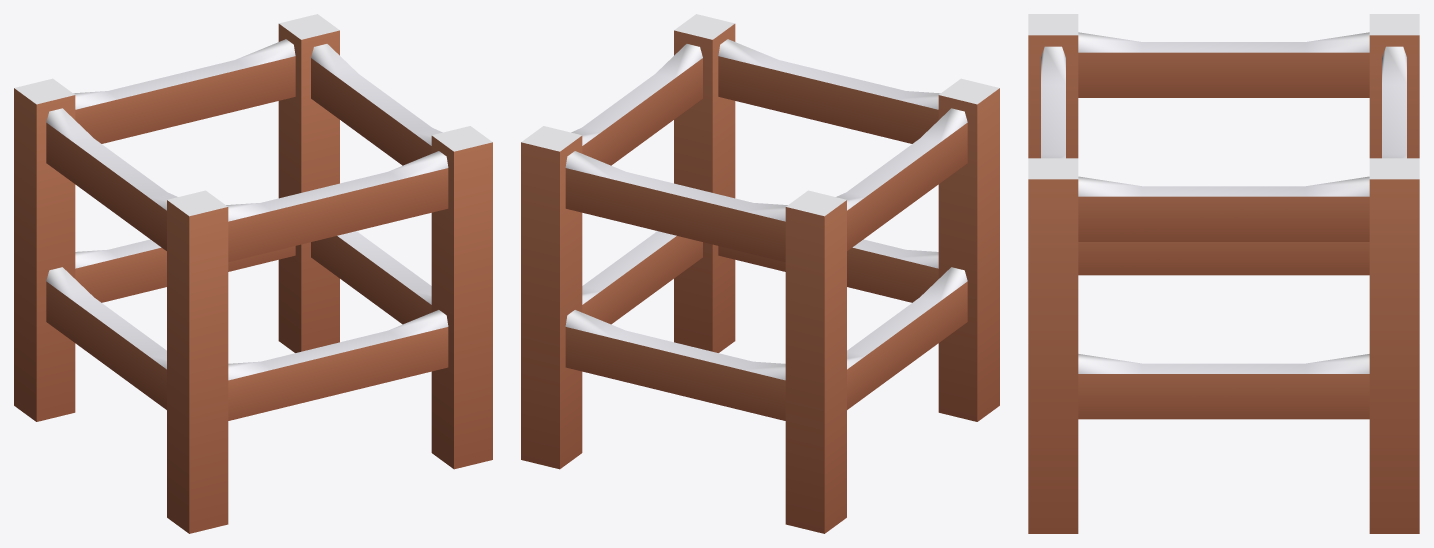
File: snow-wood-structure-high.fbx
3 views of the same model, side by side, from view 1: azimuth 30°, elevation 25°; view 2: azimuth 150°, elevation 25°; view 3: azimuth 270°, elevation 25° (orthographic). The views are drawn at different scales.
Parts seen in each view (by area): view 1: snow-wood-structure-high; view 2: snow-wood-structure-high; view 3: snow-wood-structure-high.
Part boxes in pixels (<box>): snow-wood-structure-high: <box>14,14,492,533</box>; snow-wood-structure-high: <box>521,14,999,533</box>; snow-wood-structure-high: <box>1028,14,1419,533</box>.
Size of the model in its own units: 100 by 100 by 100.
